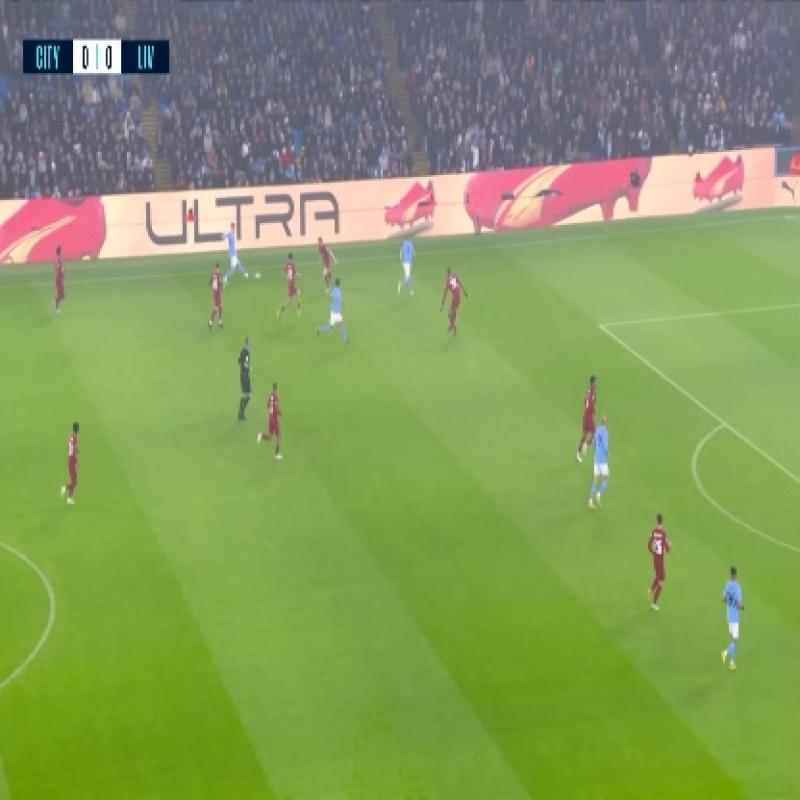1: (779, 204, 800, 227)
10: (710, 406, 734, 438)
9: (585, 306, 614, 344)
c: (35, 574, 71, 624)
